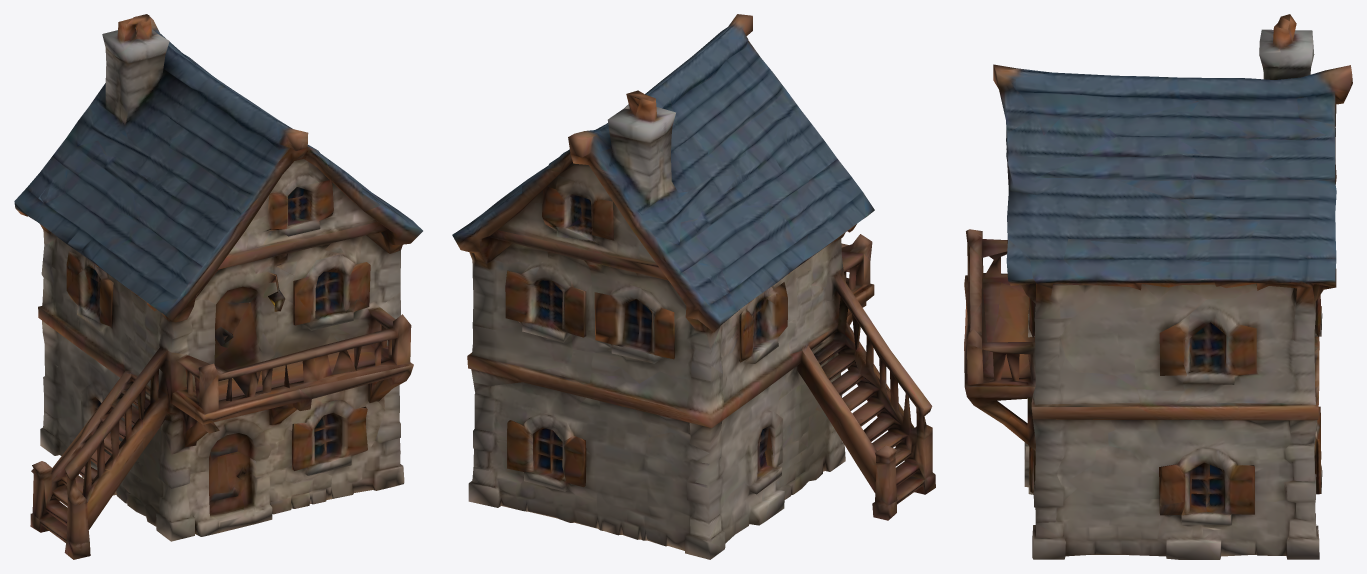
The model's file is village-stonehouse.glb.
3 renders of one model, left to right at view 1: azimuth 30°, elevation 25°; view 2: azimuth 150°, elevation 25°; view 3: azimuth 270°, elevation 25°, orthographic. The views are drawn at different scales.
Parts seen in each view (by area): view 1: village-stonehouse; view 2: village-stonehouse; view 3: village-stonehouse.
Part boxes in pixels (box(x1,y1,x2,y2)): village-stonehouse: box(14, 14, 422, 559); village-stonehouse: box(452, 14, 935, 559); village-stonehouse: box(964, 14, 1352, 559).
Size of the model in its own units: 7.58 by 9 by 6.94.
1 material, 1 textured.
